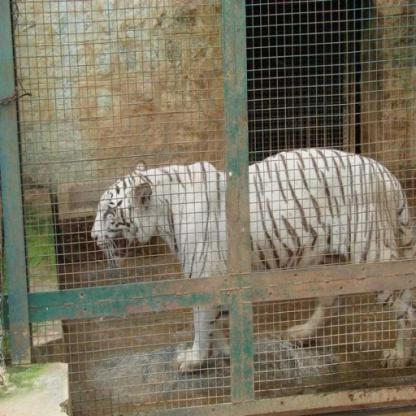Tiger: (73, 139, 415, 366)
